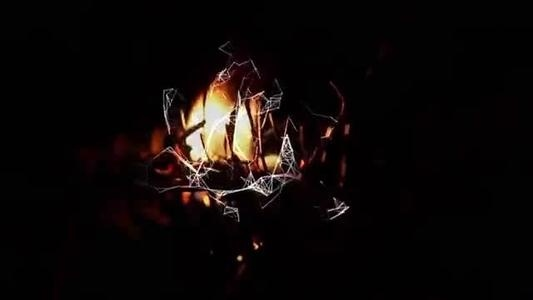fire: (181, 80, 257, 160)
